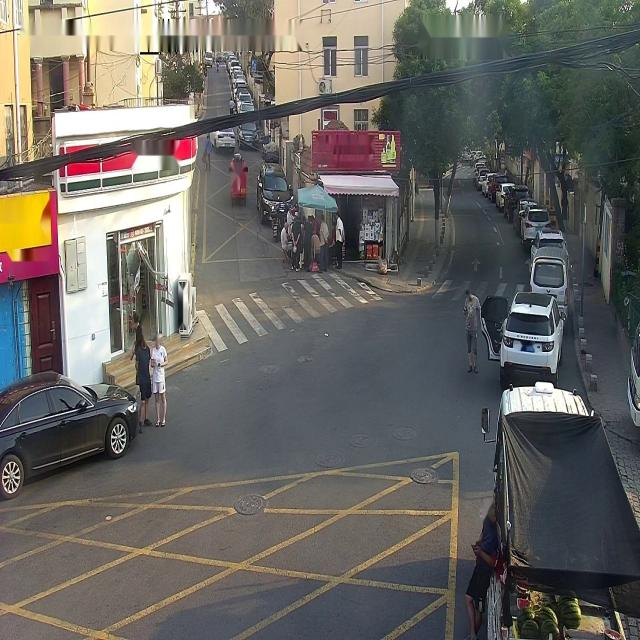car: (483, 379, 638, 637)
fixed_stall: (504, 578, 626, 636)
sunshade: (500, 405, 638, 583), (318, 174, 399, 197), (296, 183, 338, 212)
